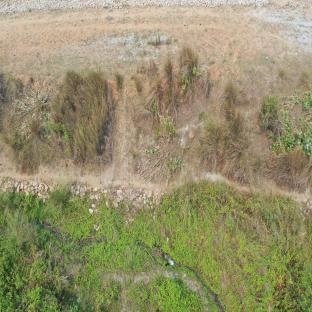rock_toe: (0, 177, 171, 212)
vegetation: (2, 189, 269, 312), (1, 73, 113, 162)
